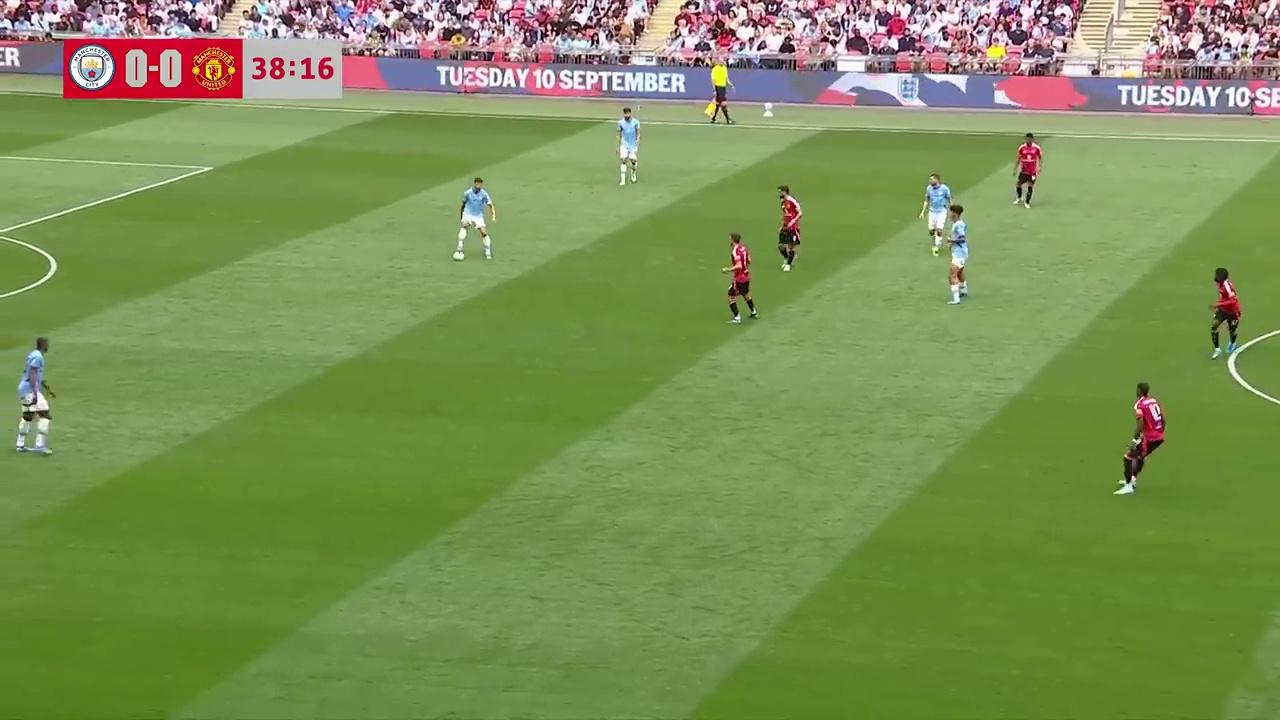ball: (452, 248, 469, 266)
player: (1121, 384, 1165, 493), (452, 177, 495, 261), (14, 367, 54, 454), (1209, 267, 1242, 362), (723, 233, 757, 322), (16, 337, 54, 411), (921, 172, 950, 256), (947, 206, 969, 303), (777, 185, 802, 270), (1013, 134, 1042, 207), (615, 108, 641, 185)
referee: (705, 69, 735, 125)
